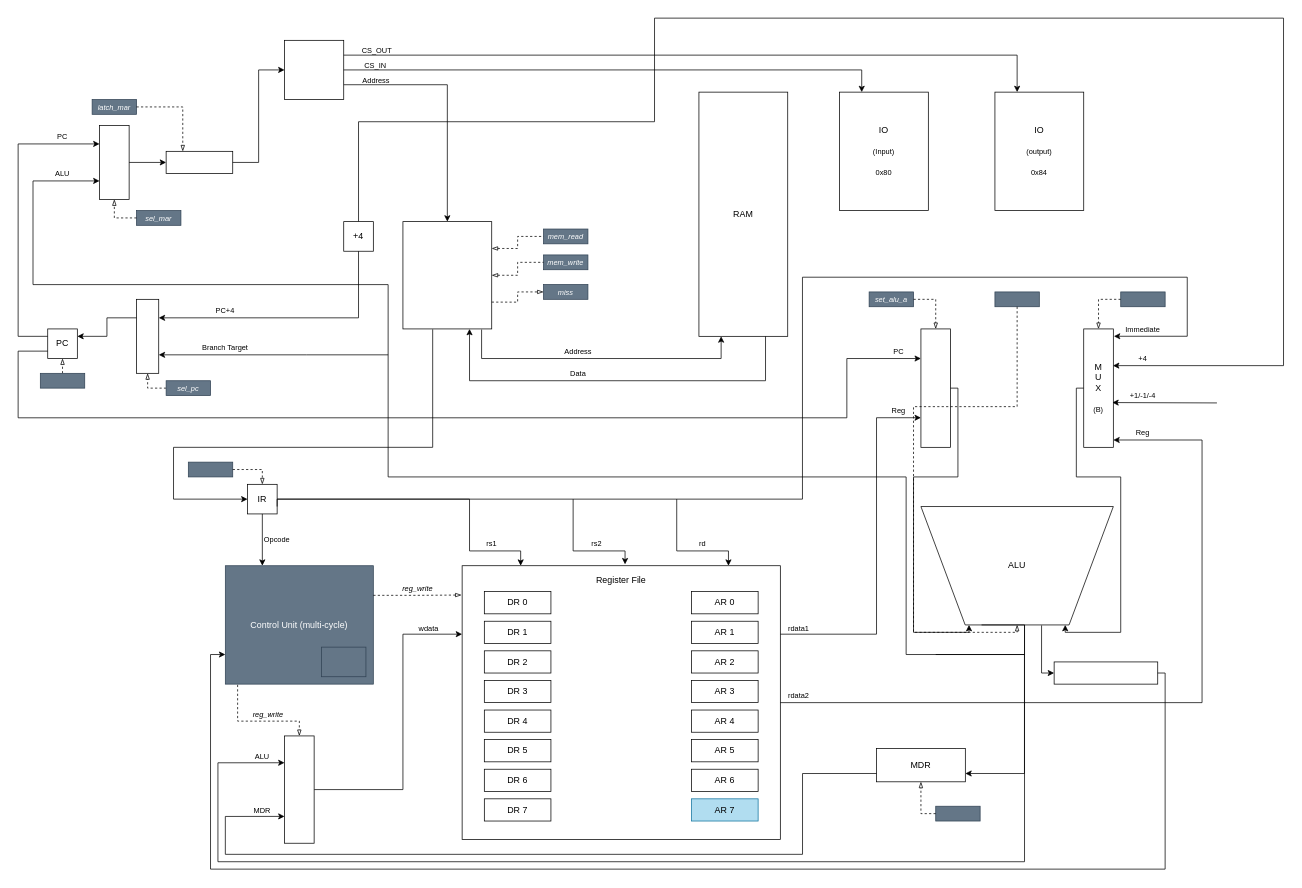
This 1302x888 diagram has some shape labels left out. Each missing label, with the centre of its shape:
Address Decoder: [314,70]
alu_op: [1016,299]
Cache (Instruction/Data): [447,275]
latch_ir: [210,469]
latch_mdr: [957,813]
latch_pc: [62,380]
M U X (A): [935,387]
M U X (MAR): [114,162]
M U X (PC): [147,336]
M U X (WB): [299,789]
MAR: [199,162]
set_alu_b: [1142,299]
SR (NZVC): [1105,672]
Step Counter: [343,661]
